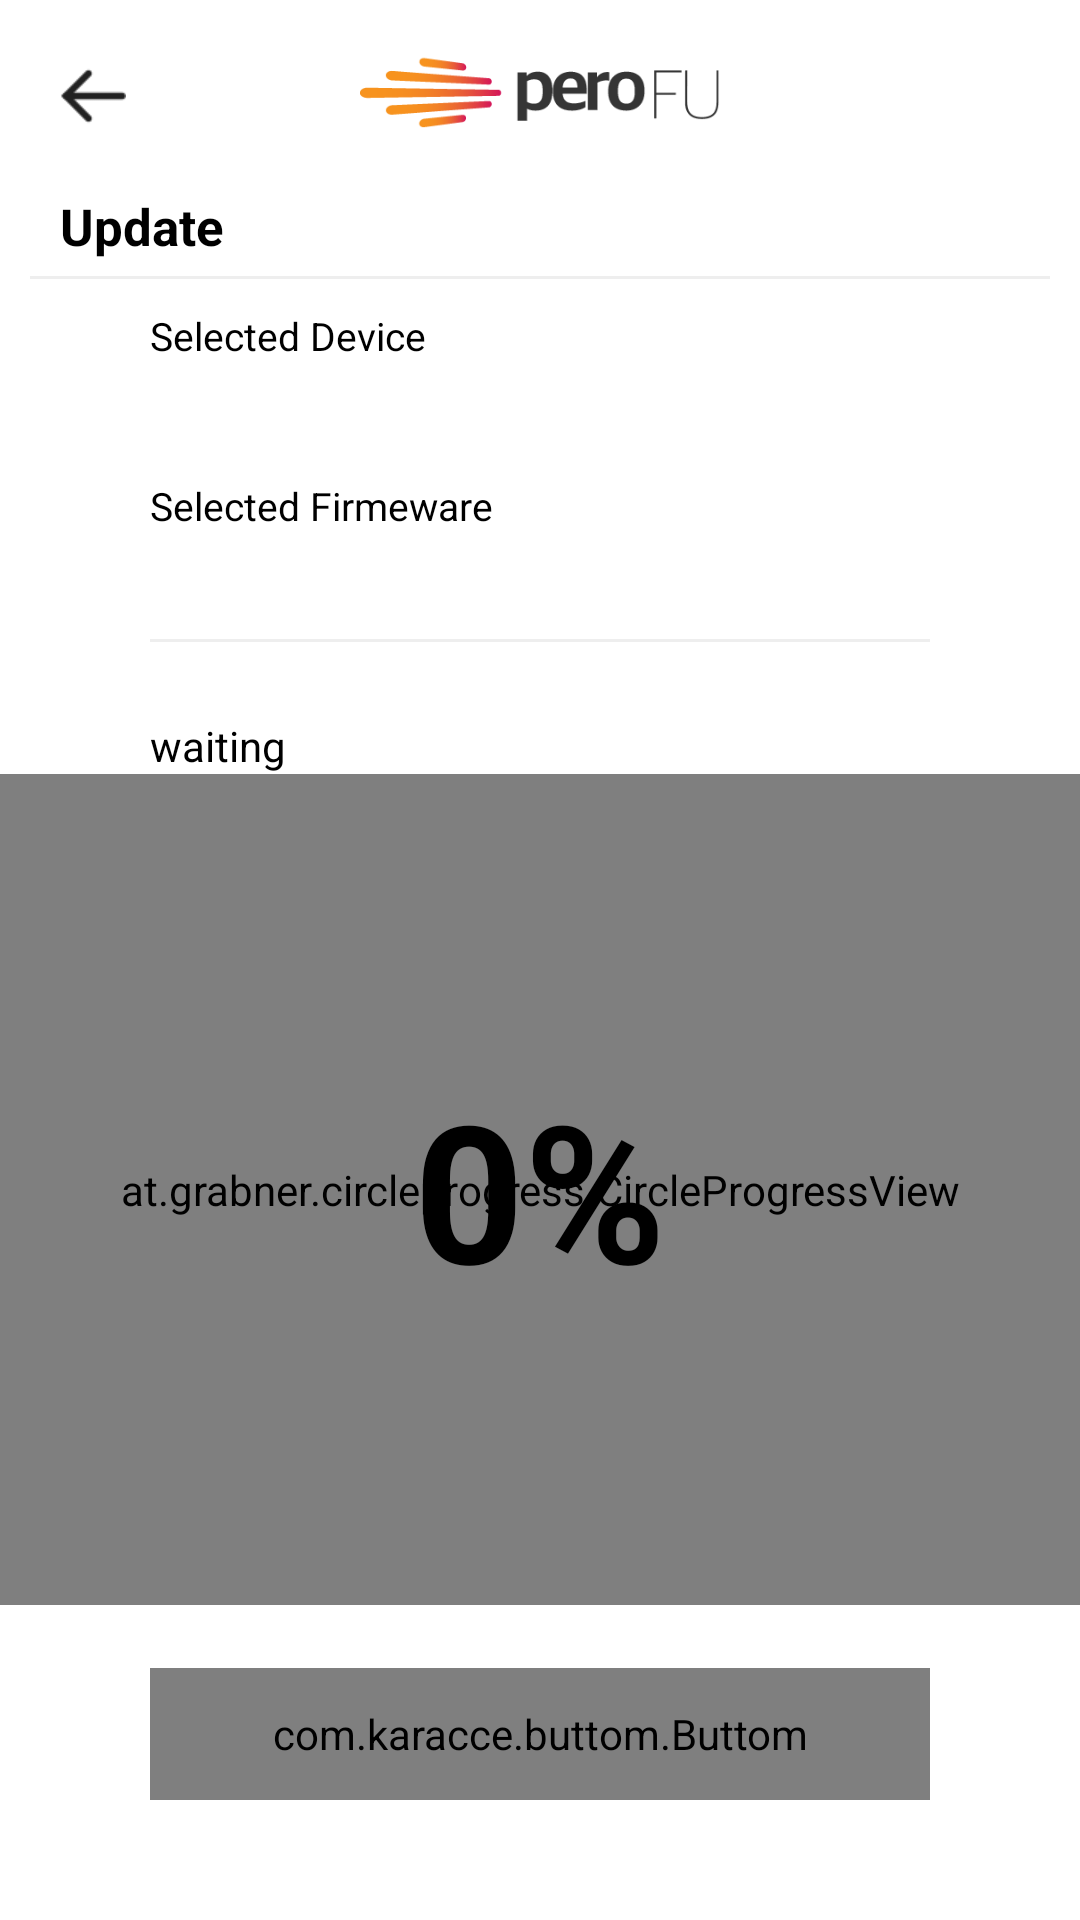

Screen size 1080px x 1920px. Icon name, then its box in pixels as bbox=[x1, y1, x2, y2]:
back: bbox=[61, 69, 126, 123]
